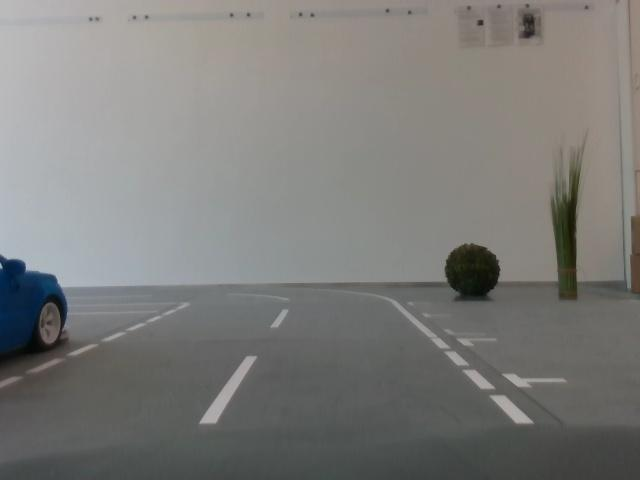car: (1, 253, 82, 357)
potted plant: (544, 135, 587, 303), (442, 241, 505, 305)
